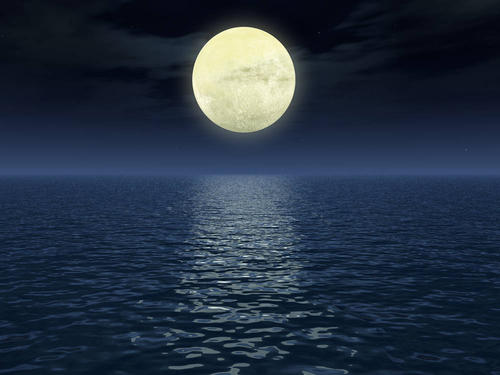moon: (191, 26, 297, 134)
